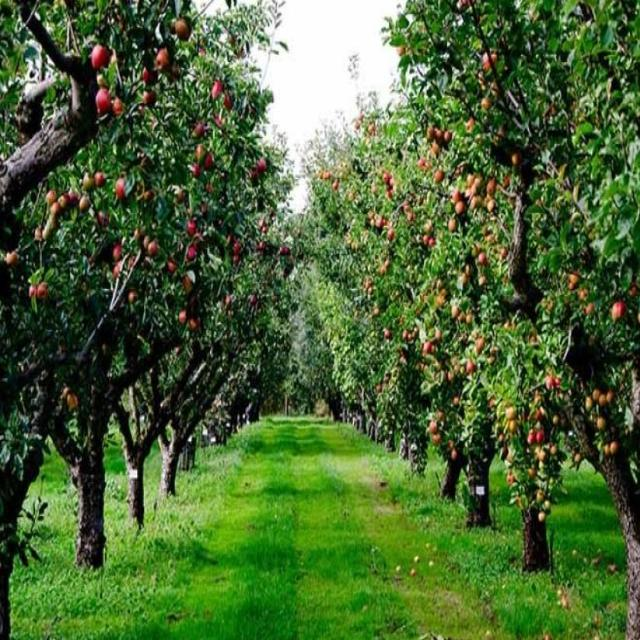row: (154, 419, 514, 639)
